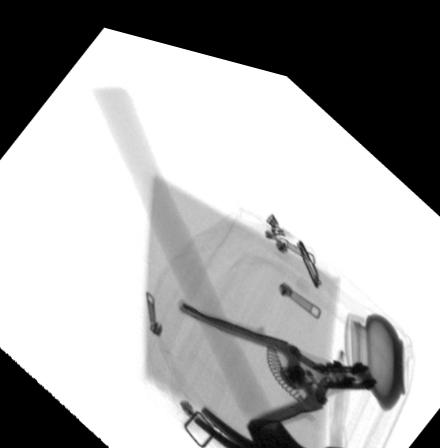Hammer: (90, 80, 356, 448)
Pliers: (176, 287, 377, 421)
